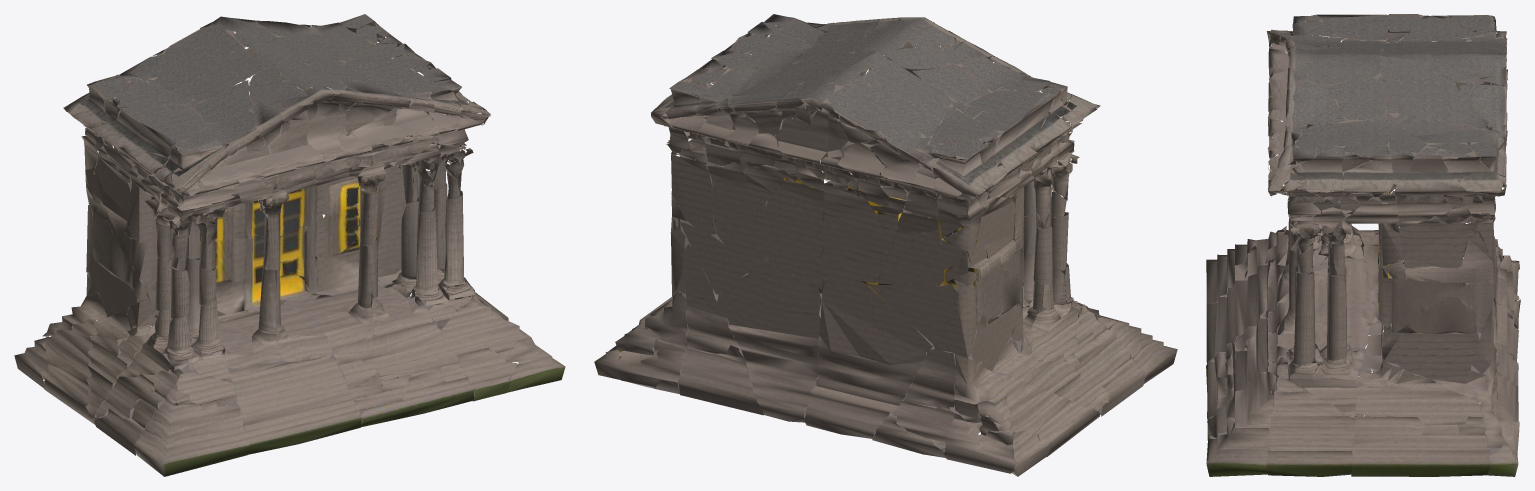
The model's file is co_bank.glb.
3 renders of one model, left to right at view 1: azimuth 30°, elevation 25°; view 2: azimuth 150°, elevation 25°; view 3: azimuth 270°, elevation 25°, orthographic. The views are drawn at different scales.
Parts seen in each view (by area): view 1: Mesh_0; view 2: Mesh_0; view 3: Mesh_0.
Part boxes in pixels (bbox=[...]): Mesh_0: bbox=[14, 14, 565, 476]; Mesh_0: bbox=[594, 14, 1177, 476]; Mesh_0: bbox=[1206, 14, 1520, 476].
Size of the model in its own units: 1.9 by 1.39 by 1.23.
Materials: 1 (1 with a texture image).
